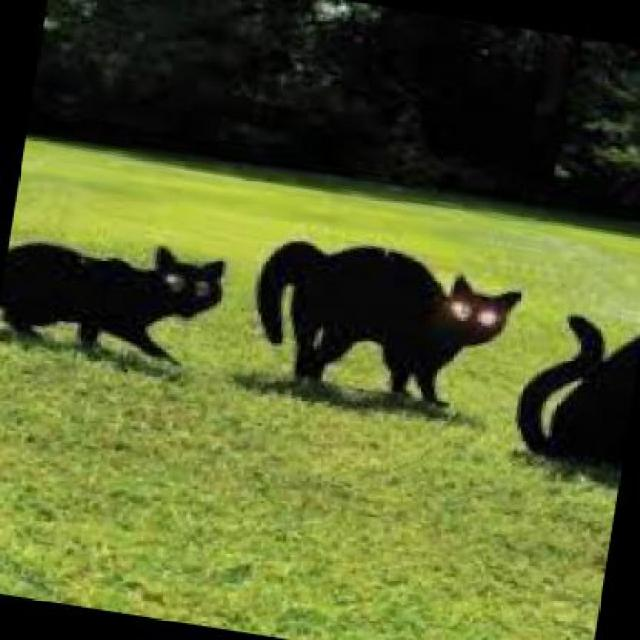animals: (242, 223, 536, 432), (0, 217, 243, 388), (500, 237, 638, 503)
